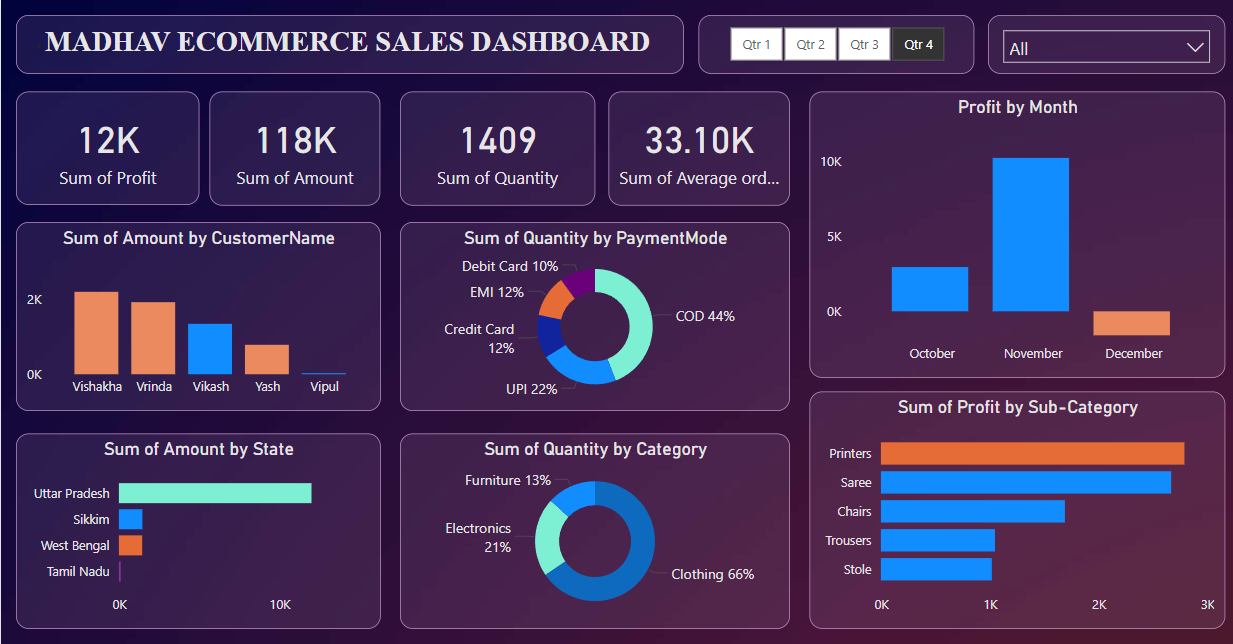

What the dashboard file says about the page in this screenshot:
{"tool":"powerbi","page":{"name":"Page 1","canvas":[1280,720],"ordinal":0},"visuals":[{"type":"textbox","box":[14.3,14.3,635.7,55.7],"z":0},{"type":"columnChart","title":" Profit by Month","fields":{"Y":["Details.Profit"],"Category":["Orders.Order Date.Variation.Date Hierarchy.Month"]},"box":[770,87.1,395.7,272.9],"z":1000},{"type":"barChart","fields":{"Category":["Details.Sub-Category"],"Y":["Details.Profit"]},"box":[770,372.9,395.7,225.7],"z":2000},{"type":"donutChart","fields":{"Y":["Details.Quantity"],"Category":["Details.Category"]},"box":[380,412.9,371.4,185.7],"z":3000},{"type":"donutChart","fields":{"Y":["Details.Quantity"],"Category":["Details.PaymentMode"]},"box":[380,211.4,371.4,180],"z":4000},{"type":"card","fields":{"Values":["Details.Amount"]},"box":[198.6,87.1,162.9,108.6],"z":5000},{"type":"card","fields":{"Values":["Details.Profit"]},"box":[14.3,87.5,175,108.2],"z":6000},{"type":"card","fields":{"Values":["Details.Quantity"]},"box":[380,87.1,185.7,108.6],"z":7000},{"type":"card","fields":{"Values":["Details.Average order"]},"box":[578.6,87.1,172.9,108.6],"z":8000},{"type":"barChart","fields":{"Category":["Orders.State"],"Y":["Details.Amount"]},"box":[14.3,412.9,347.1,185.7],"z":9000},{"type":"columnChart","fields":{"Category":["Orders.CustomerName"],"Y":["Details.Amount"]},"box":[14.3,211.4,347.1,180],"z":10000},{"type":"slicer","fields":{"Values":["Orders.Order Date.Variation.Date Hierarchy.Quarter"]},"box":[664.3,14.3,262.9,55.7],"z":11000},{"type":"slicer","fields":{"Values":["Orders.State"]},"box":[940,14.3,225.7,55.7],"z":12000}]}

Visuals, with their boxes on the page's 1280x720 design canvas (x1, y1, x2, y2). These are canvas units, not pixel positions in the 1233x644 screenshot, which may show the page scaled, cropped or inside an application window:
textbox: [14, 14, 650, 70]
" Profit by Month" columnChart: [770, 87, 1166, 360]
barChart - Details.Sub-Category x Details.Profit: [770, 373, 1166, 599]
donutChart - Details.Quantity x Details.Category: [380, 413, 751, 599]
donutChart - Details.Quantity x Details.PaymentMode: [380, 211, 751, 391]
card - Details.Amount: [199, 87, 362, 196]
card - Details.Profit: [14, 88, 189, 196]
card - Details.Quantity: [380, 87, 566, 196]
card - Details.Average order: [579, 87, 752, 196]
barChart - Orders.State x Details.Amount: [14, 413, 361, 599]
columnChart - Orders.CustomerName x Details.Amount: [14, 211, 361, 391]
slicer - Orders.Order Date.Variation.Date Hierarchy.Quarter: [664, 14, 927, 70]
slicer - Orders.State: [940, 14, 1166, 70]
